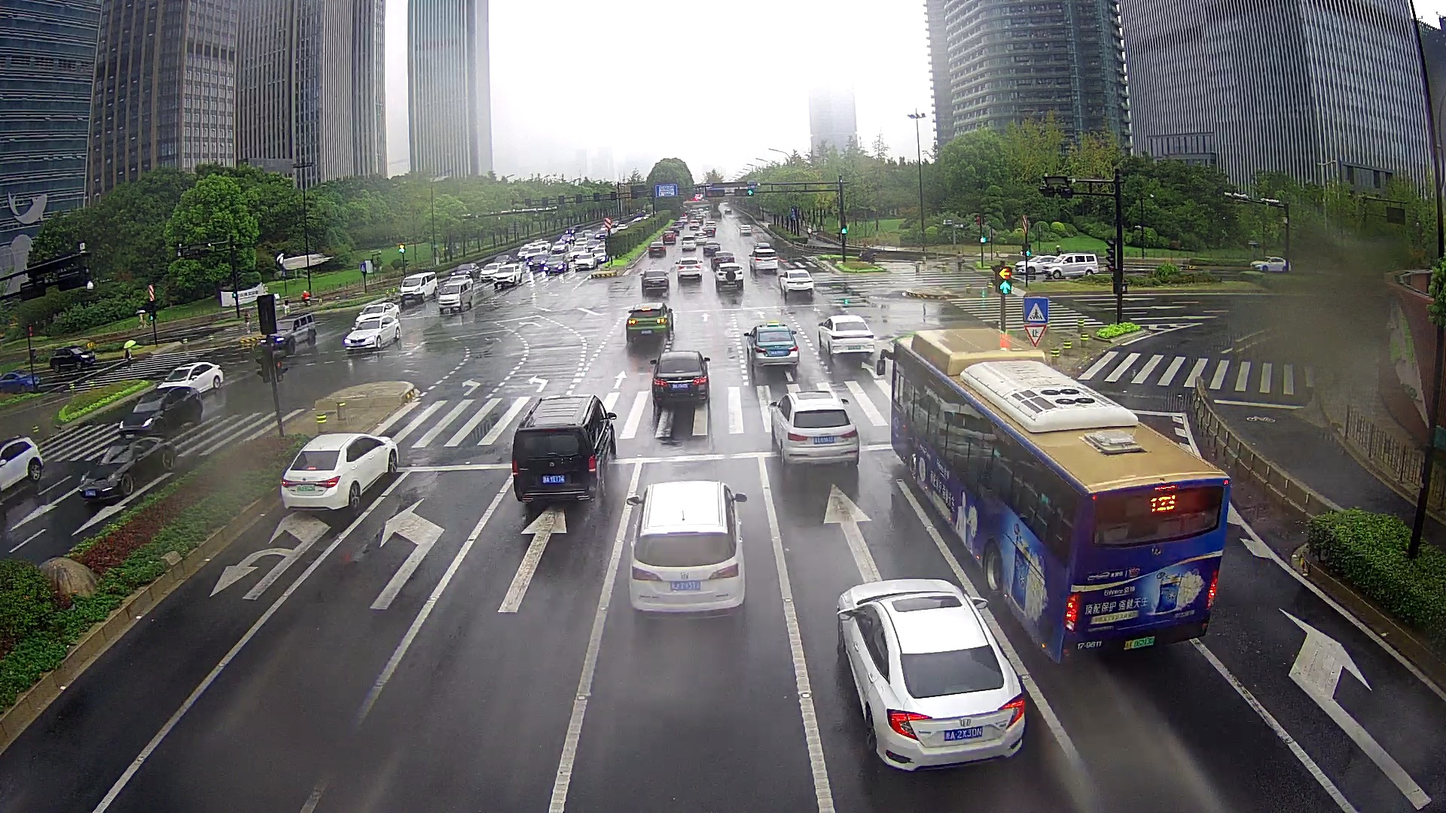vehicle: (873, 325, 1234, 668), (832, 574, 1028, 775), (624, 477, 749, 620), (505, 391, 618, 507), (276, 428, 401, 516), (765, 385, 863, 473), (76, 434, 178, 504), (114, 385, 206, 438), (647, 349, 715, 409), (738, 318, 804, 377), (814, 309, 879, 364), (621, 299, 675, 345), (339, 313, 402, 352), (1042, 250, 1100, 276), (775, 266, 818, 300), (47, 343, 94, 371), (441, 276, 472, 312), (398, 269, 436, 297), (711, 262, 745, 288), (637, 268, 671, 292), (752, 240, 777, 271)
